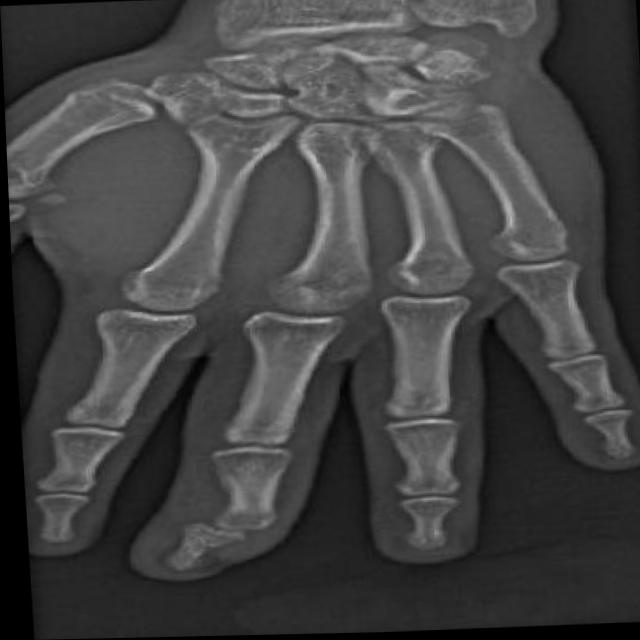fracture: (181, 510, 276, 551)
